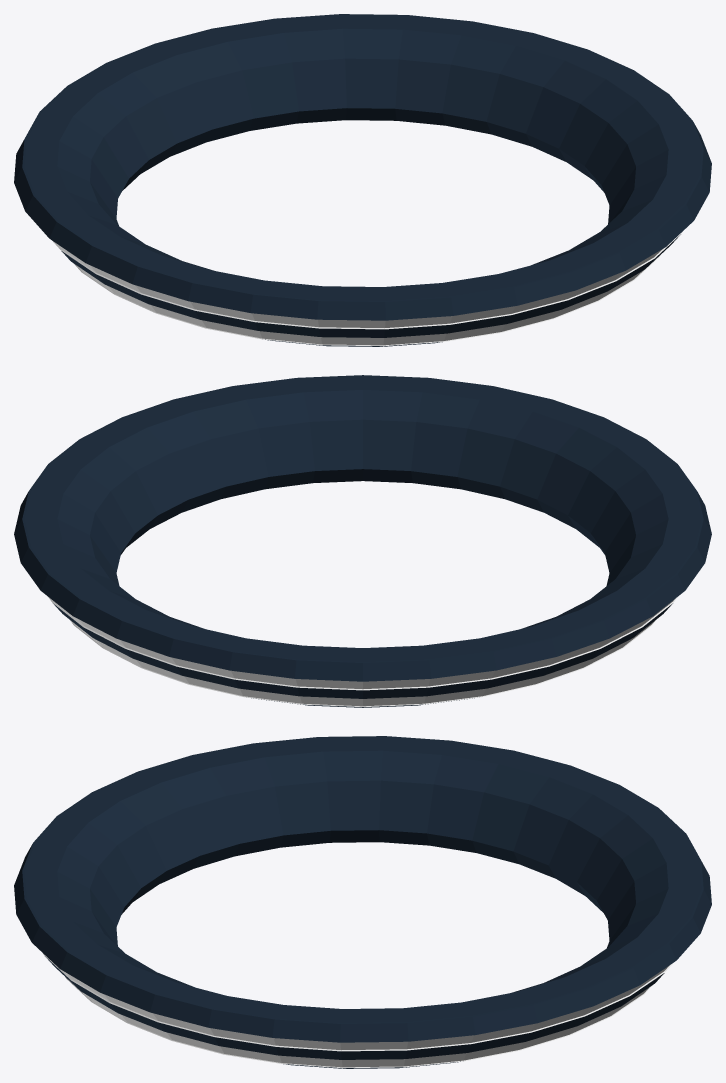
The model's file is Habitat_3_LODGroup.fbx.
The picture shows the model from 3 angles, top to bottom: view 1: azimuth 30°, elevation 25°; view 2: azimuth 150°, elevation 25°; view 3: azimuth 270°, elevation 25°; orthographic projection.
Visible parts, largest first — view 1: Habitat 3_LOD0; view 2: Habitat 3_LOD0; view 3: Habitat 3_LOD0.
Part boxes in pixels (box(x1,y1,x2,y2)): Habitat 3_LOD0: box(14, 14, 711, 346); Habitat 3_LOD0: box(14, 375, 711, 707); Habitat 3_LOD0: box(14, 736, 711, 1068).
Size of what is drawn, in the model's own units: 483 by 54.4 by 483.
